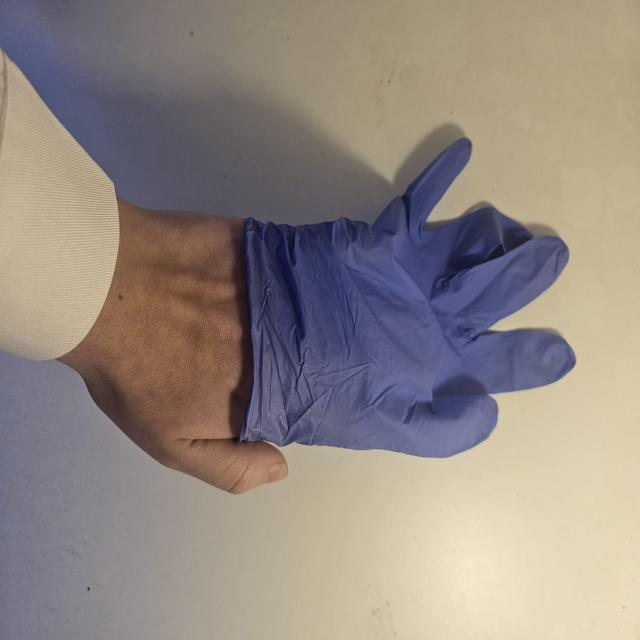glove_partial: (98, 136, 576, 494)
